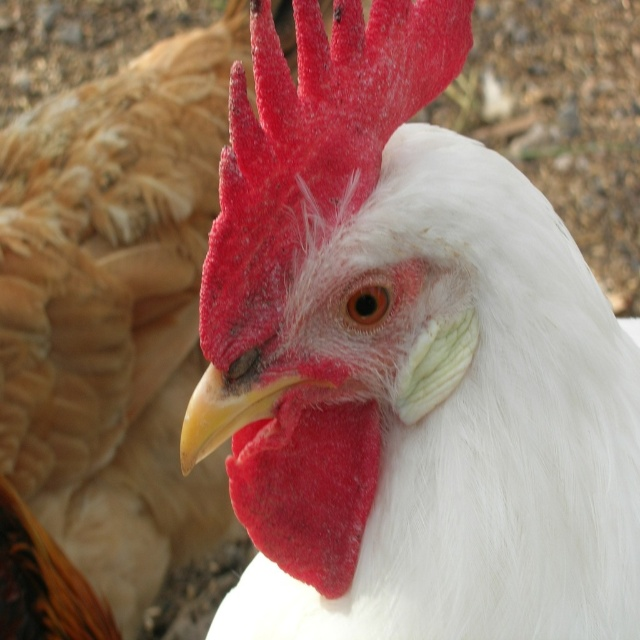Chicken: (166, 25, 640, 640)
